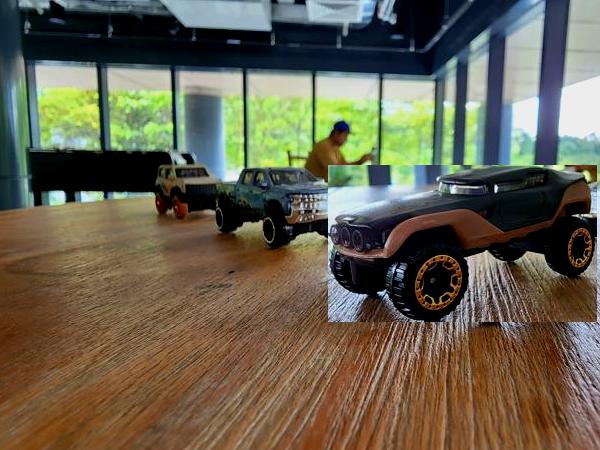toy-car: (327, 166, 596, 323), (214, 168, 336, 248), (154, 165, 222, 218)
